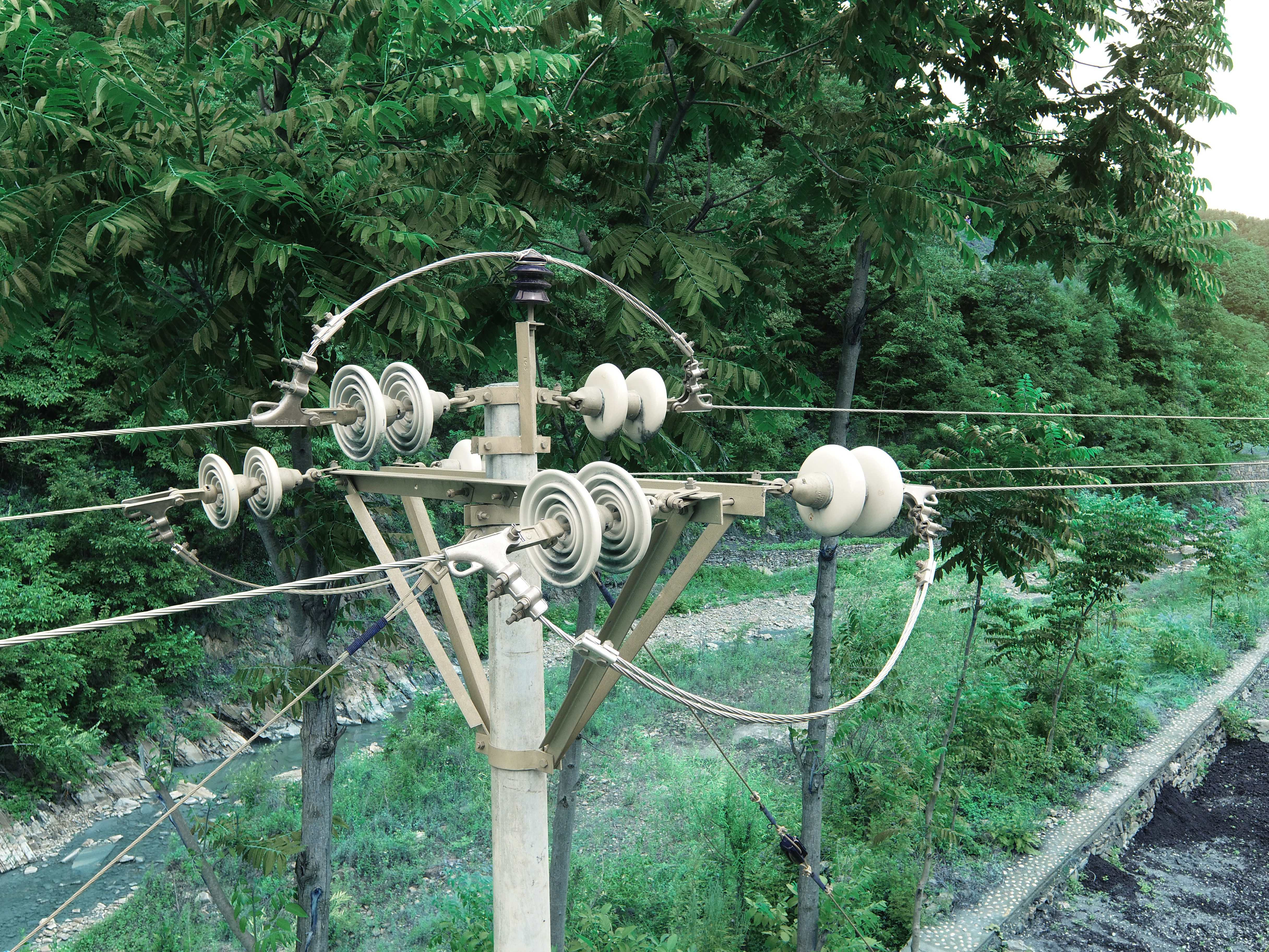severe_soiling_no_discharge_whole: (514, 455, 654, 591), (325, 355, 452, 459), (567, 360, 671, 448), (195, 446, 305, 528)
